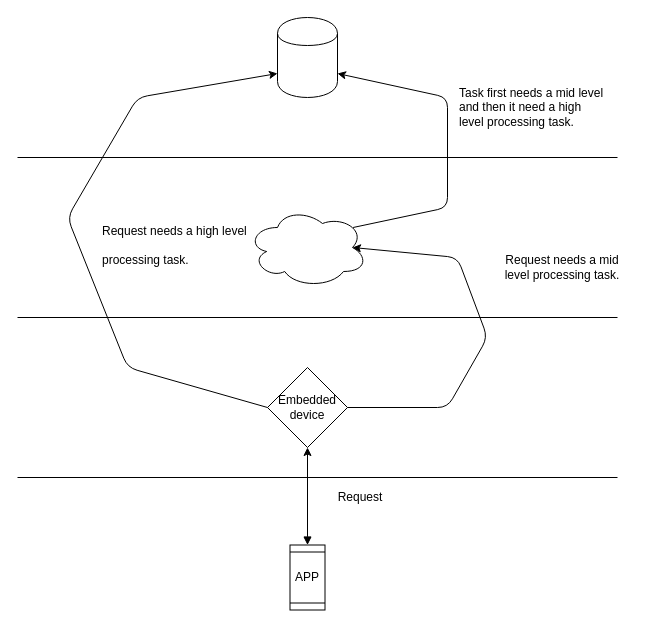
This 645x628 diagram has some shape labels left out. Here are the shapes that lost their labels. From the top down, the box of each, then its label:
(276, 16, 338, 98): Main Server
(246, 206, 368, 288): Mid Server
